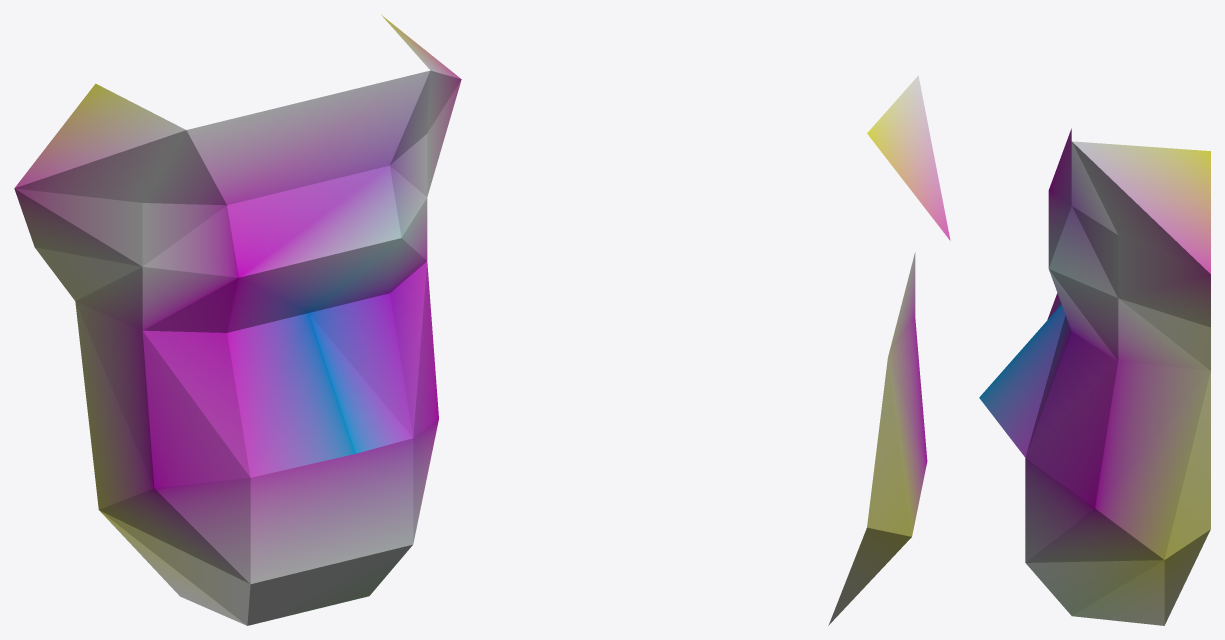
The picture shows the model from 3 angles, left to right: view 1: azimuth 30°, elevation 25°; view 2: azimuth 150°, elevation 25°; view 3: azimuth 270°, elevation 25°; orthographic projection. The views are drawn at different scales.
Visible parts, largest first — view 1: model_1417; view 2: model_1417; view 3: model_1417.
Part boxes in pixels (x1=…): model_1417: x1=14, y1=15, x2=461, y2=625; model_1417: x1=828, y1=75, x2=950, y2=625; model_1417: x1=979, y1=128, x2=1210, y2=625.
Size of the model in its own units: 22 by 24 by 10.
